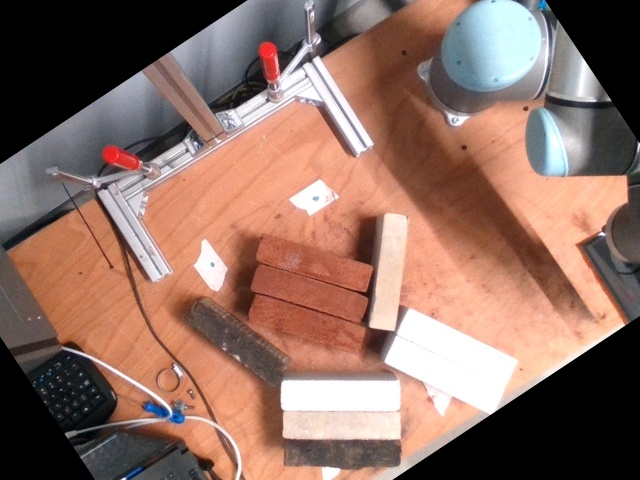brick-side: (386, 338, 499, 413), (400, 311, 511, 383), (190, 306, 281, 382), (250, 296, 363, 352), (252, 267, 366, 320), (256, 238, 369, 290), (374, 219, 404, 328), (285, 384, 396, 410), (285, 415, 396, 438), (288, 444, 397, 465)
